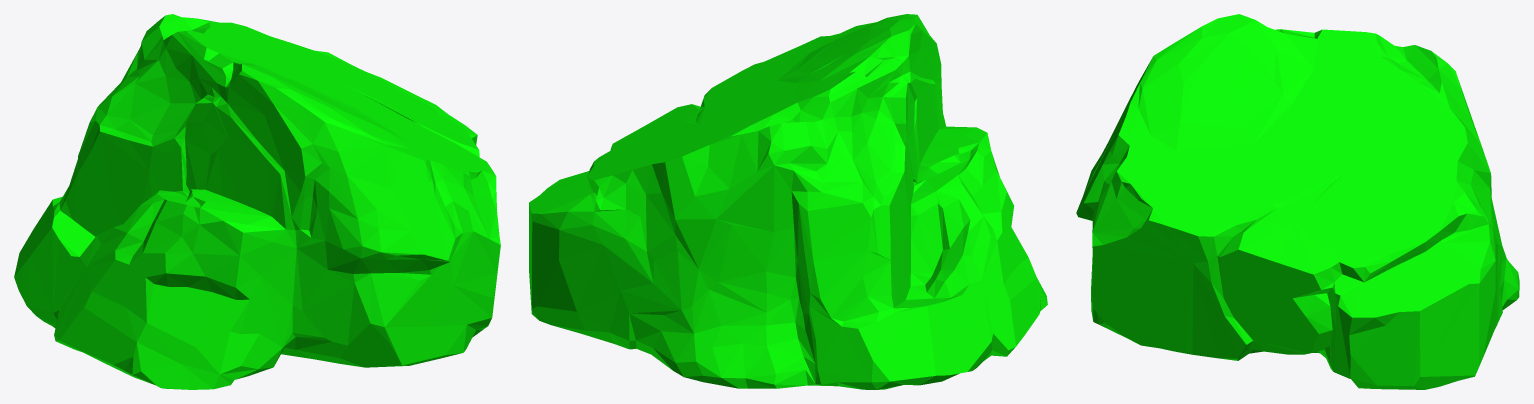
File: SM_Iceberg_Medium_B_Rock.fbx
3 renders of one model, left to right at view 1: azimuth 30°, elevation 25°; view 2: azimuth 150°, elevation 25°; view 3: azimuth 270°, elevation 25°, orthographic. The views are drawn at different scales.
Parts seen in each view (by area): view 1: SM_Iceberg_Medium_B_Rock; view 2: SM_Iceberg_Medium_B_Rock; view 3: SM_Iceberg_Medium_B_Rock.
Part boxes in pixels (box(x1,y1,x2,y2)): SM_Iceberg_Medium_B_Rock: box(14, 14, 500, 389); SM_Iceberg_Medium_B_Rock: box(529, 14, 1047, 389); SM_Iceberg_Medium_B_Rock: box(1076, 14, 1519, 389).
Bounding box in the file's own units: 12.85 × 7.56 × 11.94.
